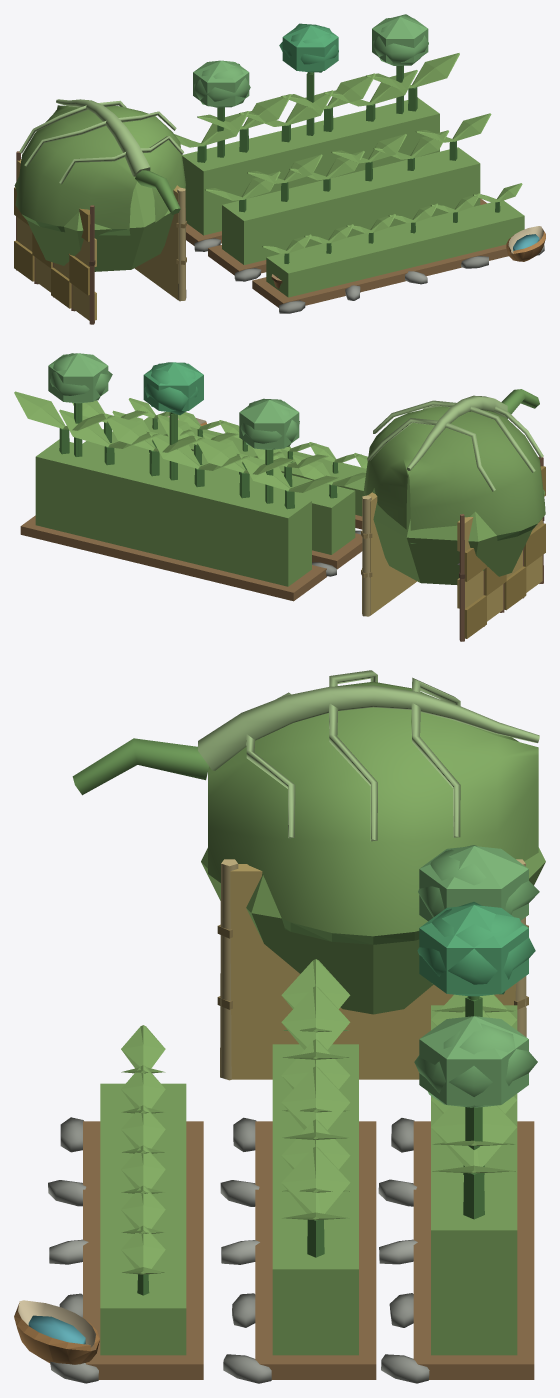
Rendered from forester.glb.
3 renders of one model, top to bottom at view 1: azimuth 30°, elevation 25°; view 2: azimuth 150°, elevation 25°; view 3: azimuth 270°, elevation 25°, orthographic. The views are drawn at different scales.
Visible parts, largest first — view 1: body__far, body_nl, body_nh, body; view 2: body__far, body_nl, body_nh, body; view 3: body__far, body, body_nl, body_nh.
Part boxes in pixels (<box>): body__far: <box>14,17,524,299</box>; body_nl: <box>15,14,428,235</box>; body_nh: <box>19,53,522,263</box>; body: <box>14,72,545,324</box>; body__far: <box>35,353,545,615</box>; body_nl: <box>50,353,545,543</box>; body_nh: <box>14,391,543,509</box>; body: <box>20,389,545,641</box>; body__far: <box>100,846,545,1355</box>; body: <box>14,685,539,1383</box>; body_nl: <box>208,681,539,1106</box>; body_nh: <box>121,670,516,1295</box>.
Bounding box in the file's own units: 3.63 × 1.38 × 1.85.
